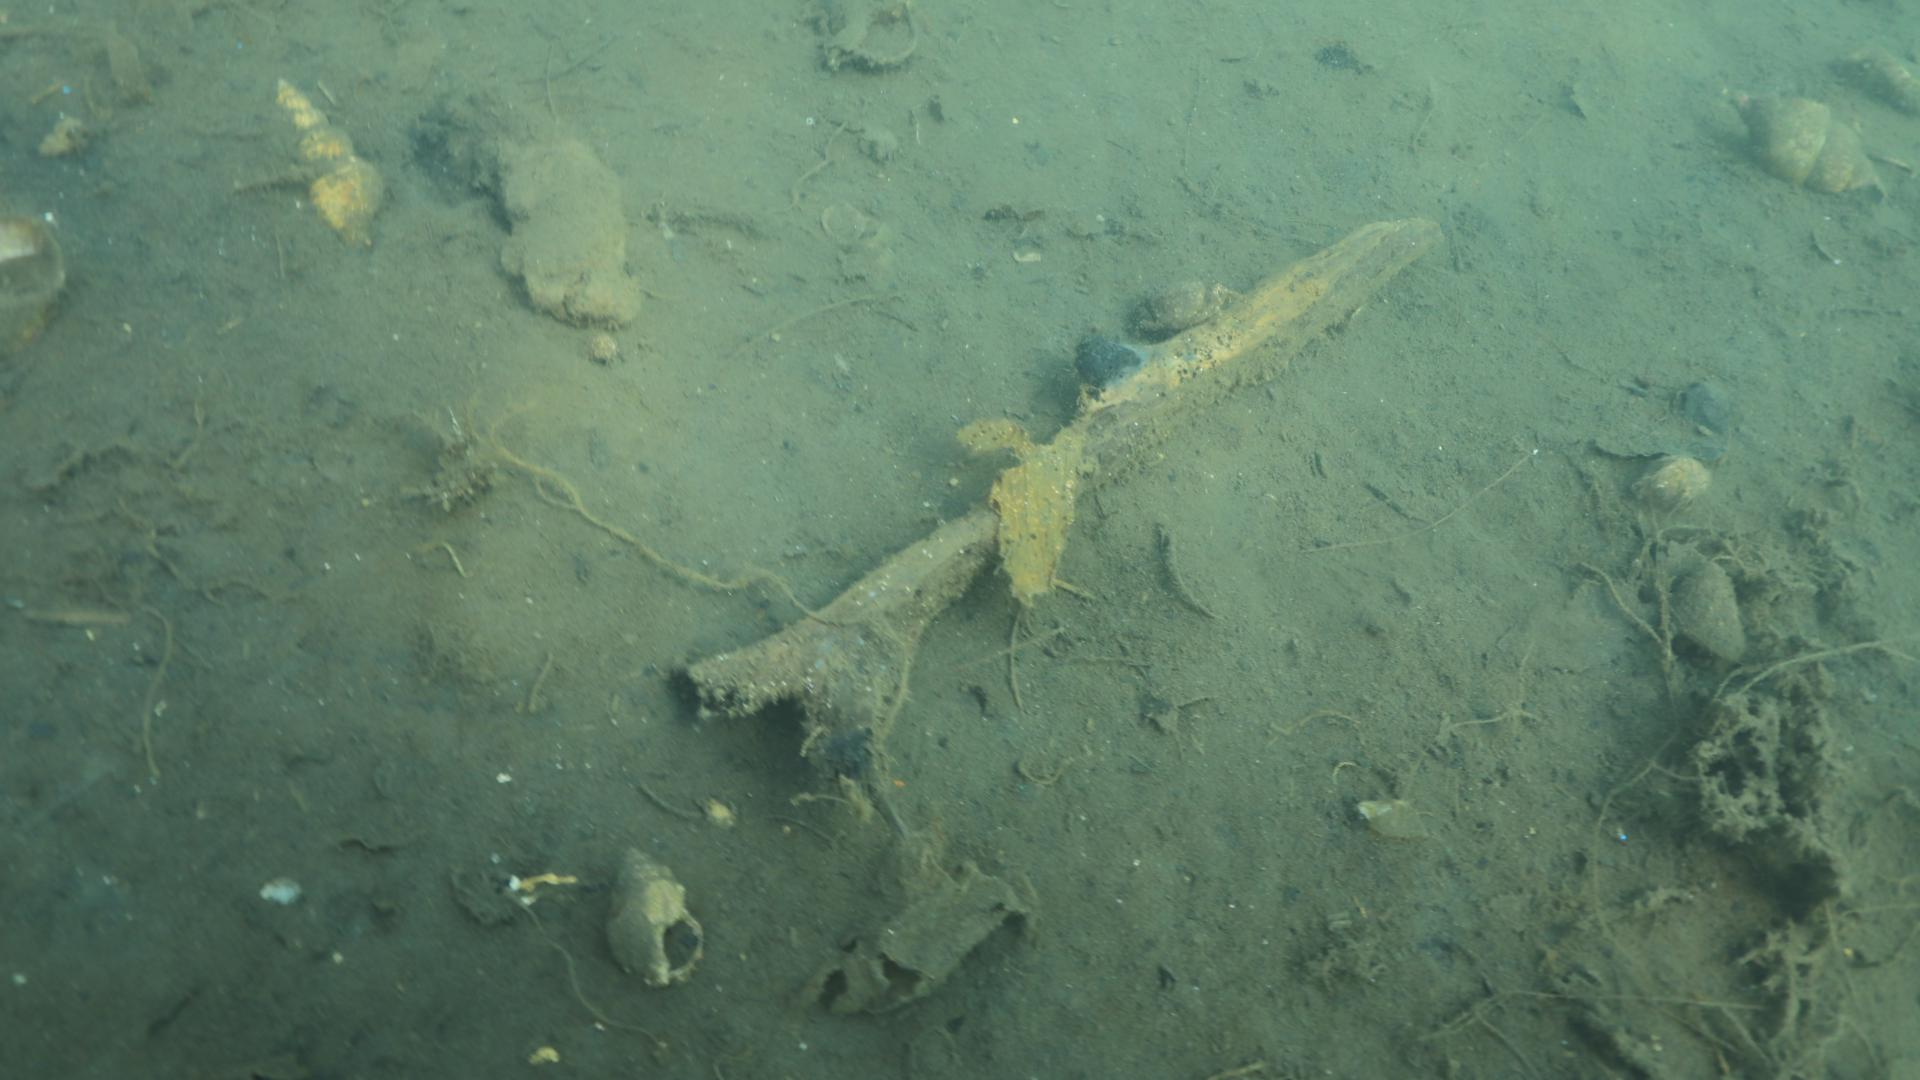wood: (678, 215, 1443, 837)
